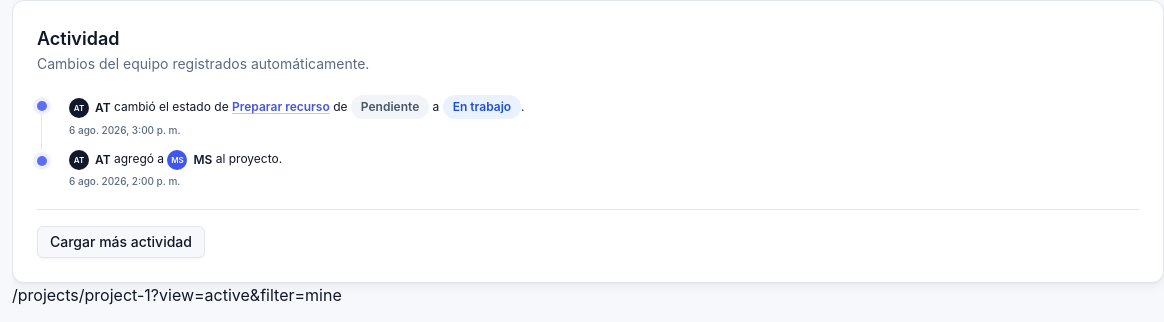
Test: ProjectActivityFeed › selects activity tasks without discarding the current project query
What coordinates should you click on to do the following:
click the link "Preparar recurso"
I would click on:
 (281, 106)
Its box is x1=232 y1=99 x2=330 y2=114.
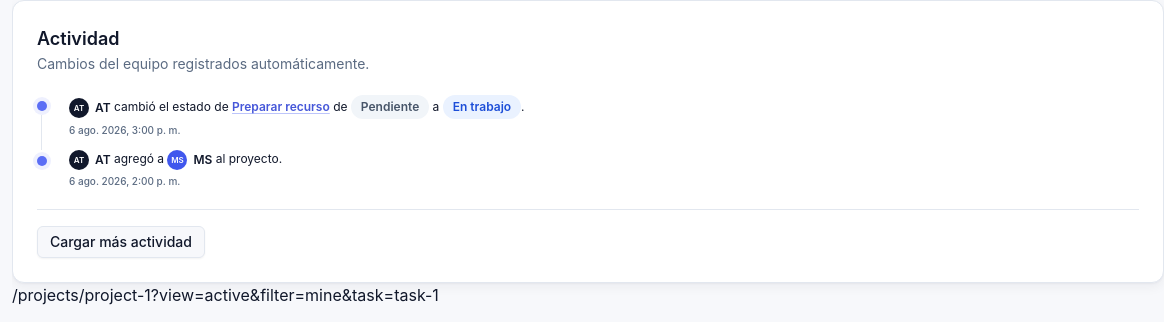
Now the text with test id "location" reads "/projects/project-1?view=active&filter=mine&task=task-1", box x1=12 y1=285 x2=439 y2=305
